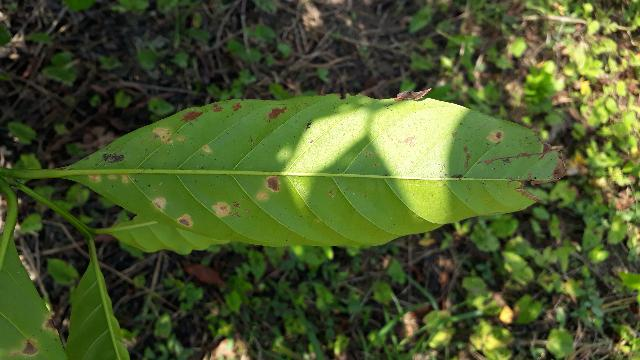rust_level_1: (74, 111, 577, 265)
